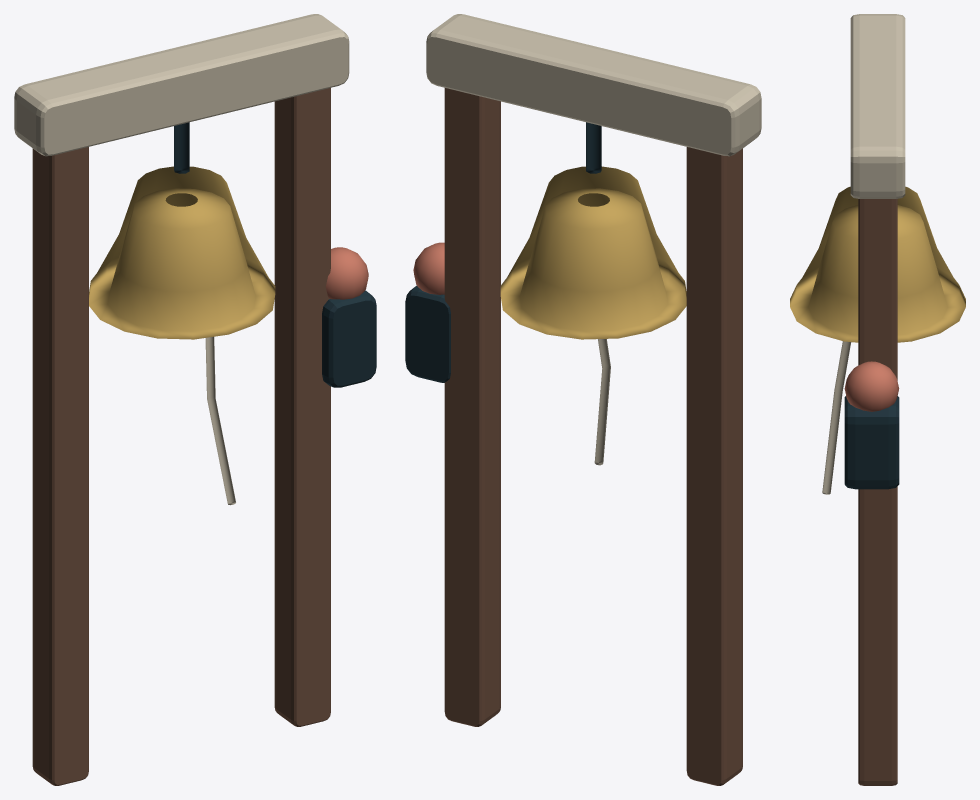
Rendered from alarm-bell-lod1.glb.
3 views of the same model, side by side, from view 1: azimuth 30°, elevation 25°; view 2: azimuth 150°, elevation 25°; view 3: azimuth 270°, elevation 25° (orthographic). The views are drawn at different scales.
Visible parts, largest first — view 1: shell, bell, emission; view 2: shell, bell, emission; view 3: shell, bell, emission.
Part boxes in pixels (x1=…): shell: x1=14, y1=14, x2=376, y2=785; bell: x1=89, y1=166, x2=275, y2=505; emission: x1=326, y1=247, x2=368, y2=299; shell: x1=405, y1=14, x2=761, y2=785; bell: x1=500, y1=166, x2=686, y2=465; emission: x1=413, y1=242, x2=444, y2=294; shell: x1=844, y1=14, x2=905, y2=785; bell: x1=790, y1=186, x2=965, y2=494; emission: x1=844, y1=361, x2=899, y2=411.
Size of the model in its own units: 1.19 by 2.34 by 0.58.
